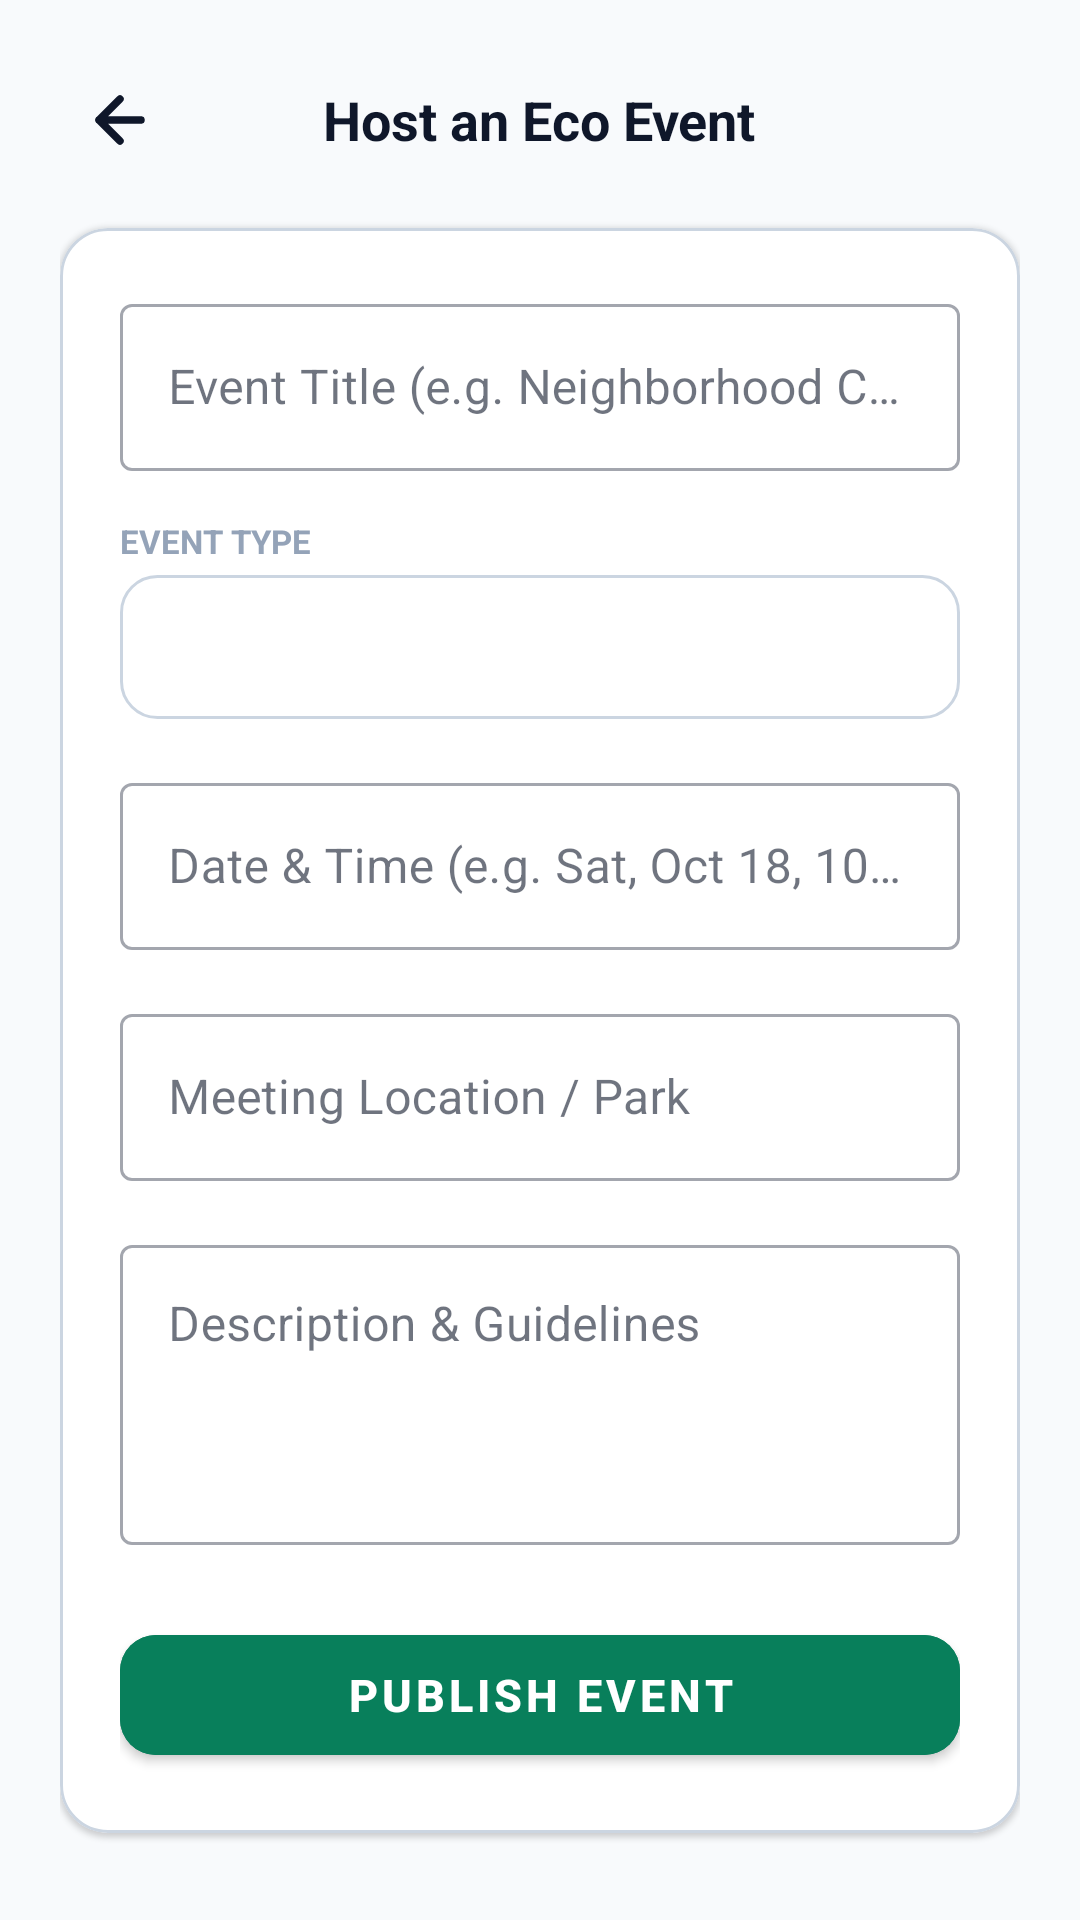

Where icons sit on this 1080x1920 app screen, as (x1, y1, x2, y2):
Back: (95, 95, 145, 145)
